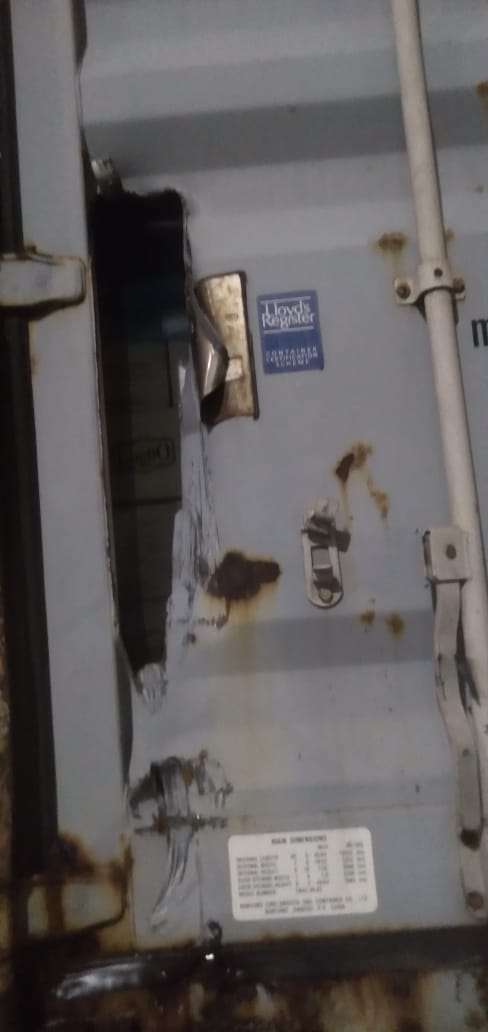rear_side: (22, 1, 488, 936)
